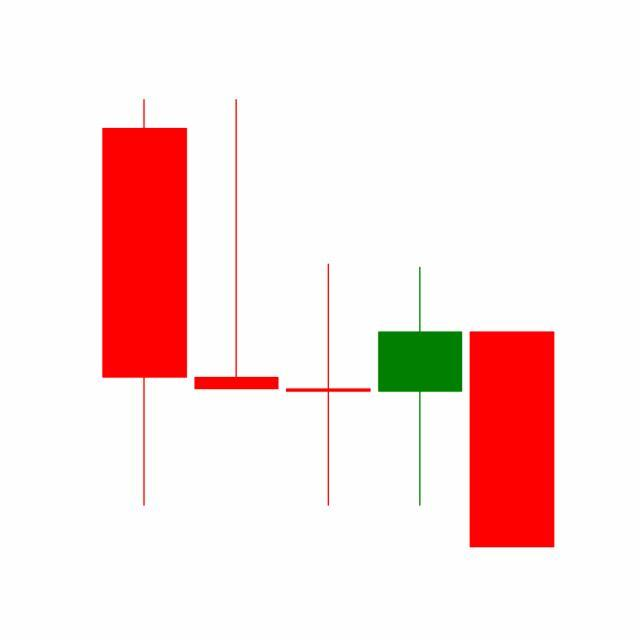Marubozu: (466, 329, 559, 551)
